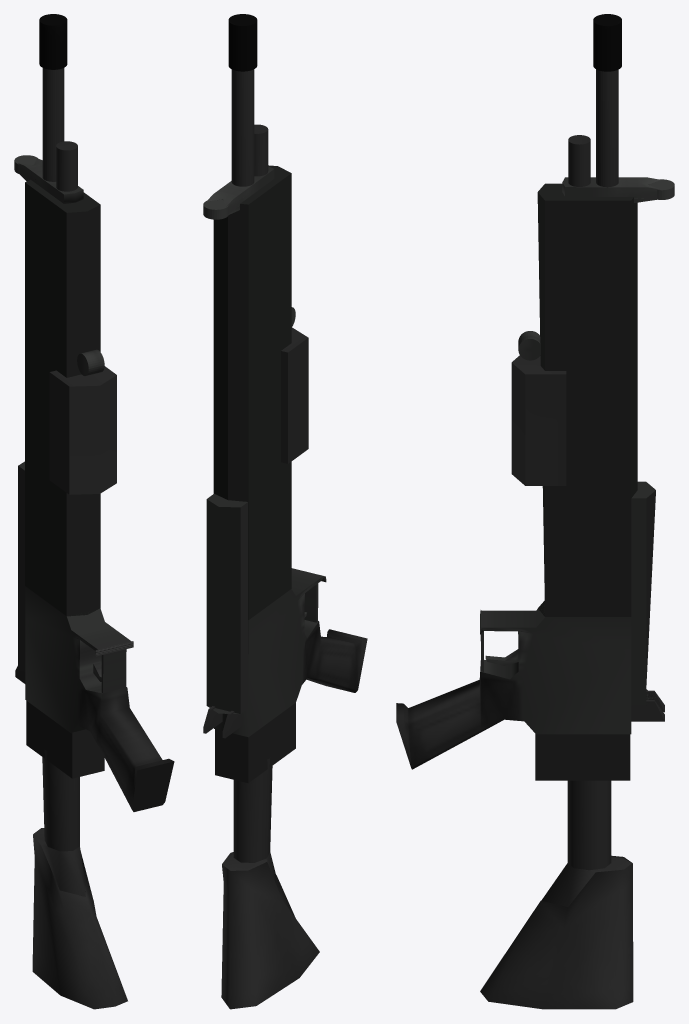
The model's file is M249_NoMagazine.fbx.
3 renders of one model, left to right at view 1: azimuth 30°, elevation 25°; view 2: azimuth 150°, elevation 25°; view 3: azimuth 270°, elevation 25°, orthographic. The views are drawn at different scales.
Parts seen in each view (by area): view 1: node_9dd0f6f6_31ed_4a20_9721_c0e673ea2e27_mesh0; view 2: node_9dd0f6f6_31ed_4a20_9721_c0e673ea2e27_mesh0; view 3: node_9dd0f6f6_31ed_4a20_9721_c0e673ea2e27_mesh0.
Boxes of the visible parts, x1,y1,x2,y2 form: node_9dd0f6f6_31ed_4a20_9721_c0e673ea2e27_mesh0: (14, 14, 174, 1009); node_9dd0f6f6_31ed_4a20_9721_c0e673ea2e27_mesh0: (203, 14, 367, 1009); node_9dd0f6f6_31ed_4a20_9721_c0e673ea2e27_mesh0: (396, 14, 674, 1009).
Bounding box in the file's own units: 0.0301 × 0.57 × 0.1464.
